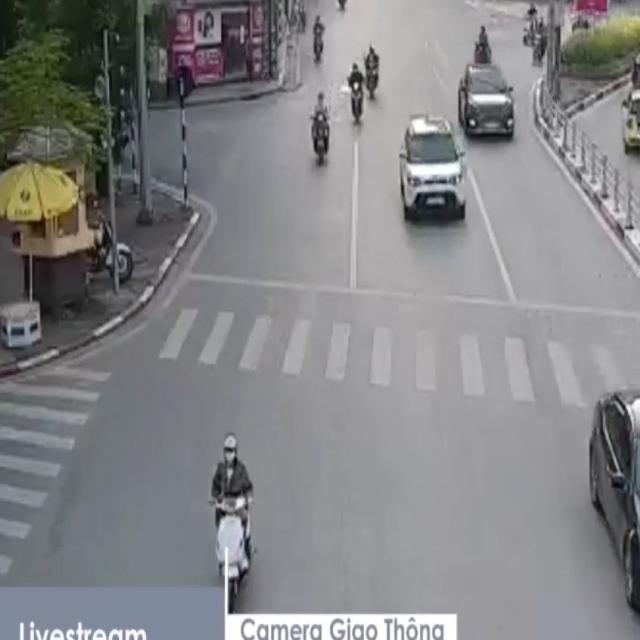bus: (623, 92, 639, 154)
car: (582, 385, 640, 621), (398, 116, 468, 222), (459, 67, 516, 138)
motorbike: (205, 431, 256, 612), (309, 86, 333, 168), (346, 59, 368, 125), (305, 8, 327, 68), (467, 22, 493, 71), (361, 42, 382, 102)
